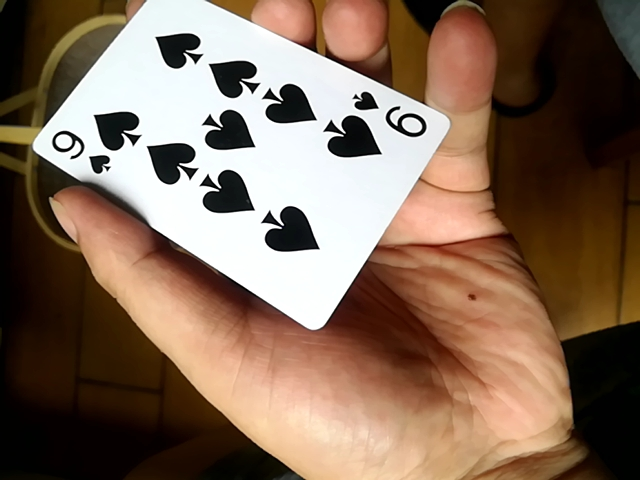ht 9: (30, 0, 457, 334)
